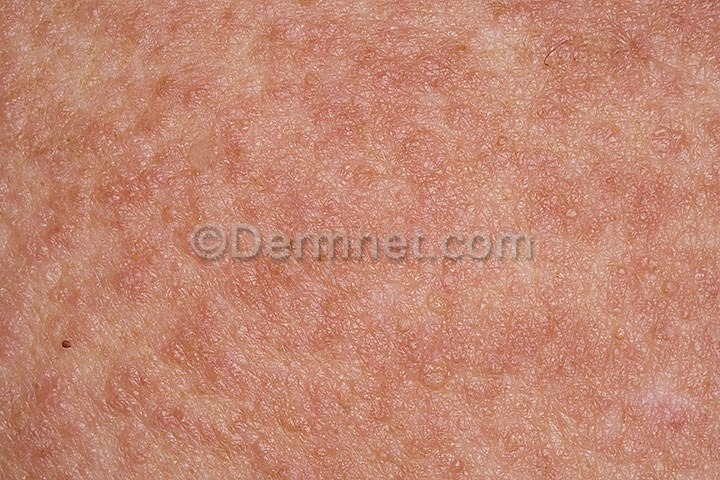Eczema: (1, 3, 718, 480)
